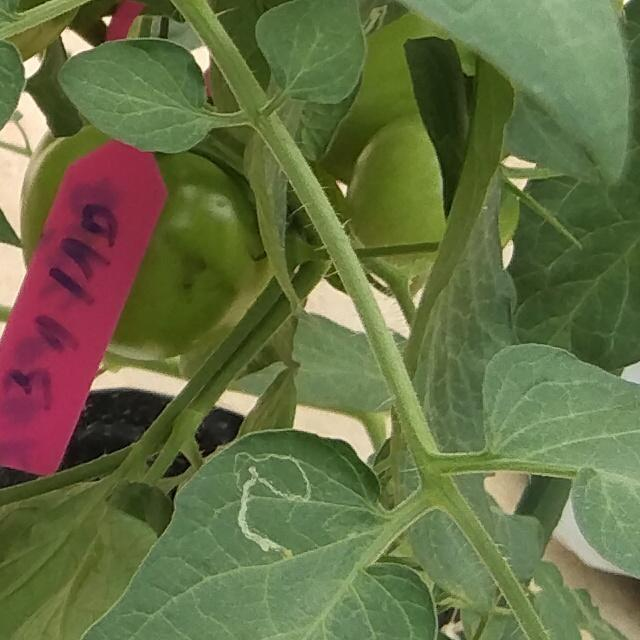Tomato target spot leaf: (78, 426, 438, 640)
